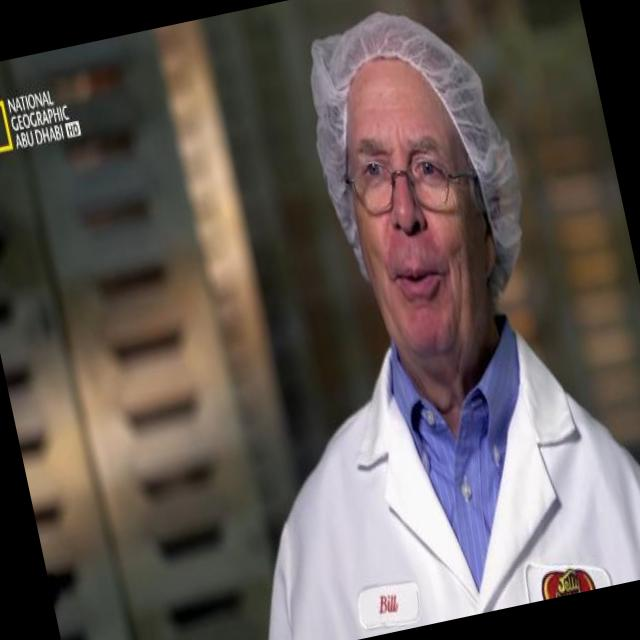hairnet: (296, 3, 493, 162)
